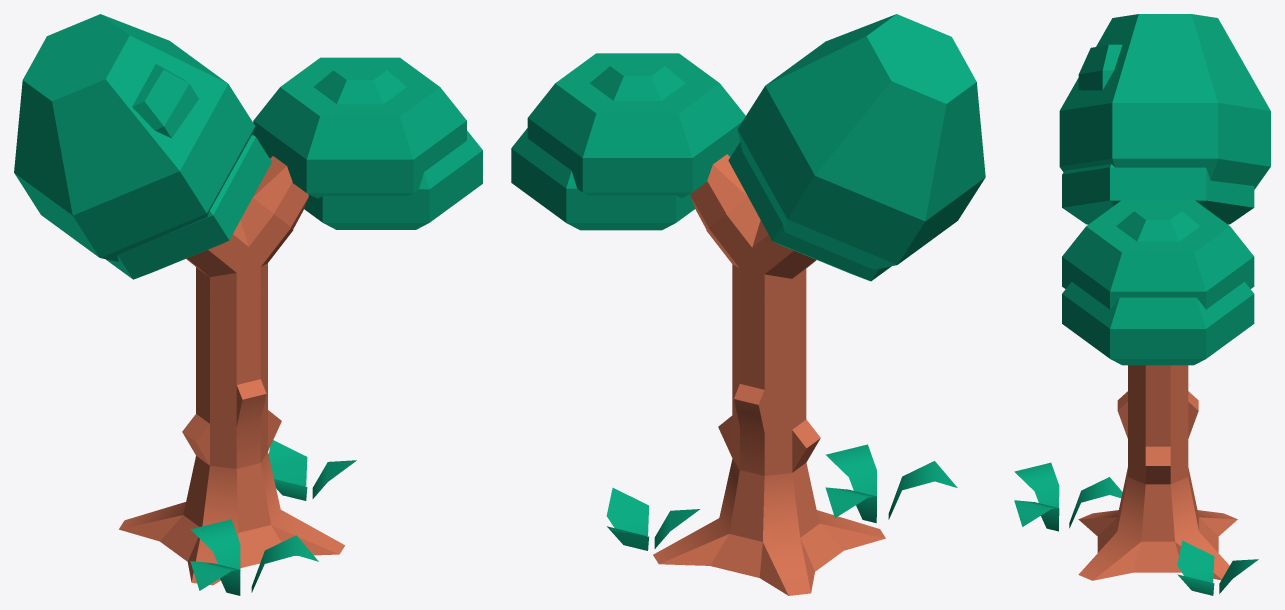
The model's file is TreeSix.fbx.
3 views of the same model, side by side, from view 1: azimuth 30°, elevation 25°; view 2: azimuth 150°, elevation 25°; view 3: azimuth 270°, elevation 25° (orthographic). The views are drawn at different scales.
Visible parts, largest first — view 1: mergedBlocks; view 2: mergedBlocks; view 3: mergedBlocks.
Boxes of the visible parts, x1,y1,x2,y2 form: mergedBlocks: (14, 14, 482, 595); mergedBlocks: (511, 14, 985, 595); mergedBlocks: (1014, 14, 1270, 595).
Bounding box in the file's own units: 25.91 × 32.06 × 15.43.
